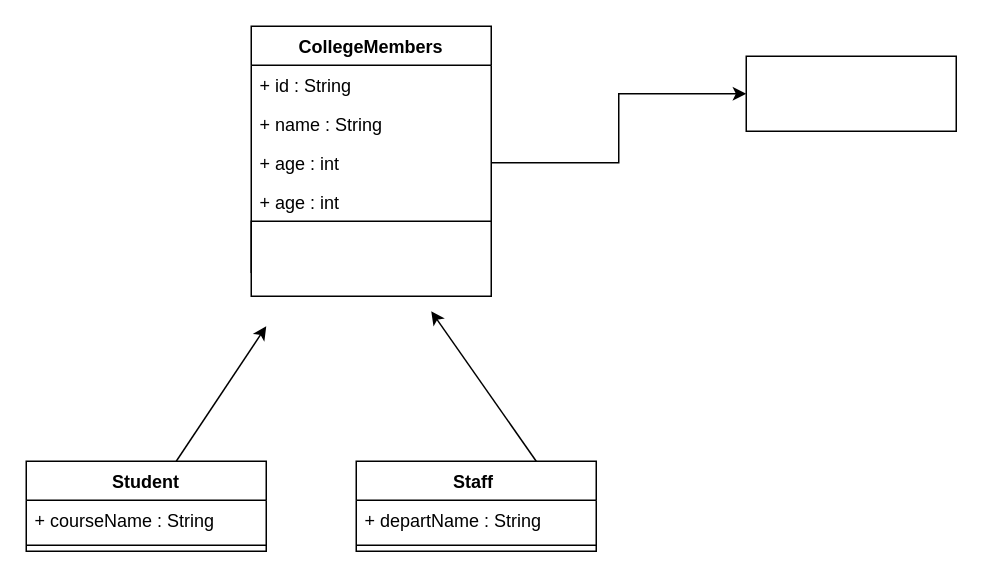
Some shapes in this 983 by 578 pixel diagram are drawn without their labels. The shapes that lost their labels are listed below. From the top down, each one's centre as x and y in pixels, then its label:
At [850,93]: "+ printMemberName()".
At [370,258]: "+ inputFromEndUser : String".
